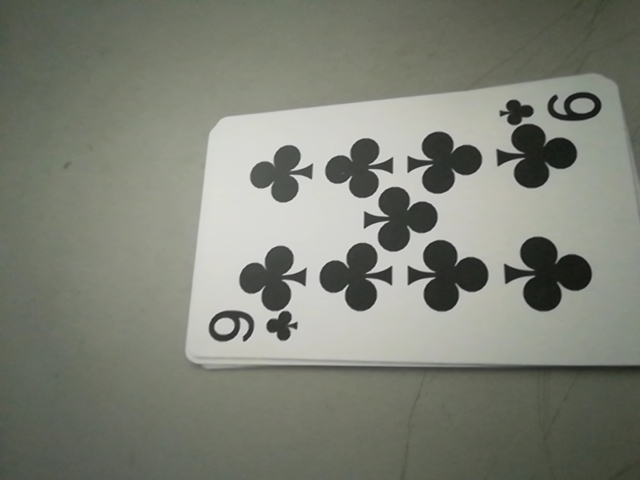mh 9: (200, 303, 304, 358), (497, 86, 606, 130)
